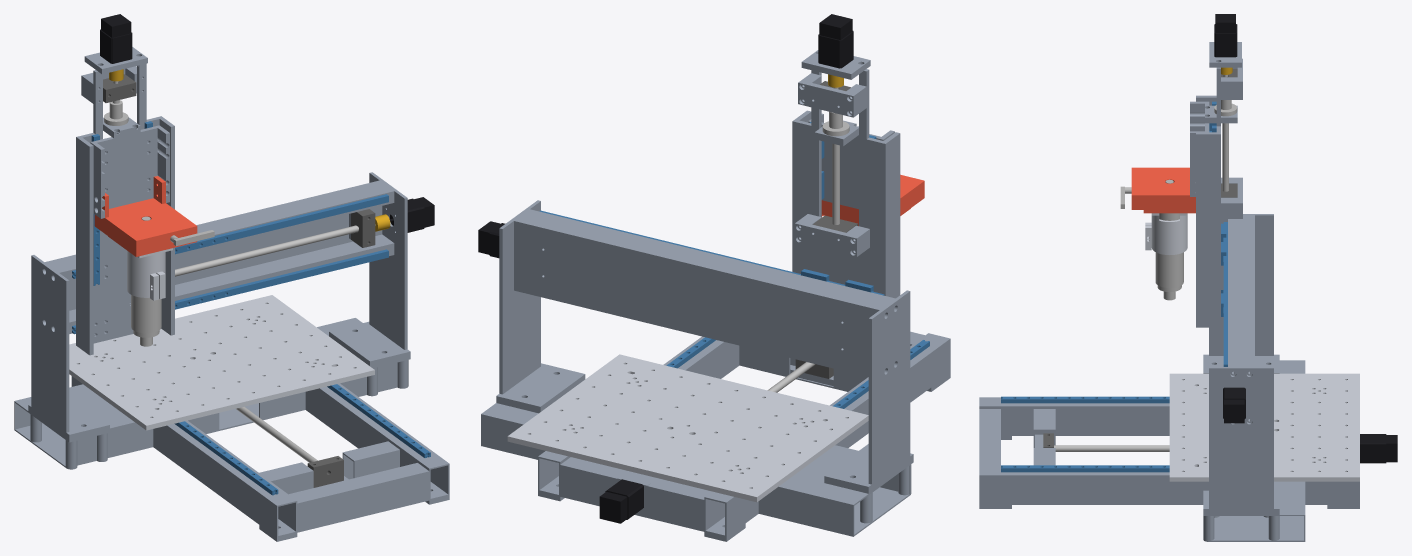
File: light_home.glb
3 renders of one model, left to right at view 1: azimuth 30°, elevation 25°; view 2: azimuth 150°, elevation 25°; view 3: azimuth 270°, elevation 25°, orthographic. The views are drawn at different scales.
Parts seen in each view (by area): view 1: table, beam, x_carriage, frame_cross_rear, upright_L, upright_R, frame_longeron_L, frame_cross_front, z_slide, frame_longeron_R, tooldock_master, frame_cross_bf (+15 smaller); view 2: beam, table, x_carriage, frame_cross_rear, upright_L, upright_R, frame_cross_end, frame_longeron_L, frame_longeron_R, z_slide, frame_cross_bf, z_bk_bridge (+9 smaller); view 3: table, upright_R, frame_longeron_R, frame_longeron_L, x_carriage, frame_cross_rear, beam, upright_L, tooldock_master, head_mount, y_rail_L, y_rail_R (+12 smaller).
Part boxes in pixels (x1,y1,x2,y2): table: [69, 295, 374, 430]; beam: [45, 180, 394, 333]; x_carriage: [76, 63, 174, 355]; frame_cross_rear: [14, 318, 410, 469]; upright_L: [28, 255, 109, 440]; upright_R: [329, 172, 410, 367]; frame_longeron_L: [71, 376, 297, 541]; frame_cross_front: [289, 463, 429, 532]; z_slide: [90, 125, 169, 218]; frame_longeron_R: [305, 383, 449, 504]; tooldock_master: [94, 176, 197, 256]; frame_cross_bf: [259, 441, 399, 494]; beam: [514, 209, 895, 376]; table: [507, 354, 868, 502]; x_carriage: [792, 69, 900, 298]; frame_cross_rear: [481, 403, 913, 536]; upright_L: [824, 290, 913, 493]; upright_R: [496, 200, 585, 413]; frame_cross_end: [560, 457, 711, 531]; frame_longeron_L: [704, 333, 950, 541]; frame_longeron_R: [538, 336, 739, 501]; z_slide: [808, 113, 894, 209]; frame_cross_bf: [739, 345, 867, 391]; z_bk_bridge: [798, 73, 866, 117]; table: [1169, 373, 1359, 481]; upright_R: [1203, 367, 1279, 514]; frame_longeron_R: [979, 466, 1359, 508]; frame_longeron_L: [979, 397, 1169, 439]; x_carriage: [1196, 67, 1220, 327]; frame_cross_rear: [1203, 360, 1305, 541]; beam: [1228, 215, 1254, 422]; upright_L: [1203, 214, 1279, 373]; tooldock_master: [1131, 167, 1195, 209]; head_mount: [1145, 213, 1187, 254]; y_rail_L: [1001, 396, 1169, 403]; y_rail_R: [1001, 465, 1169, 472].
Bounding box in the file's own units: 741 × 811 × 769.
